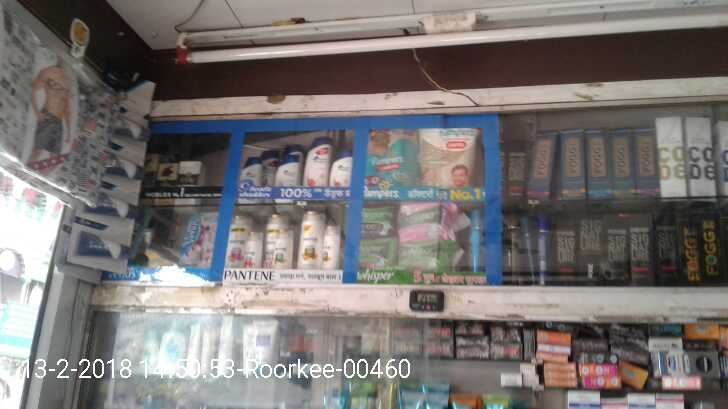venus: (175, 210, 221, 270)
